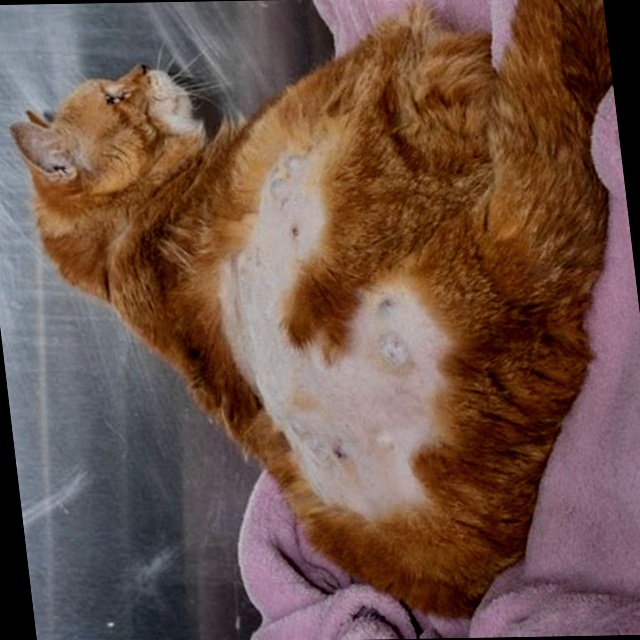hairloss: (199, 168, 428, 497)
